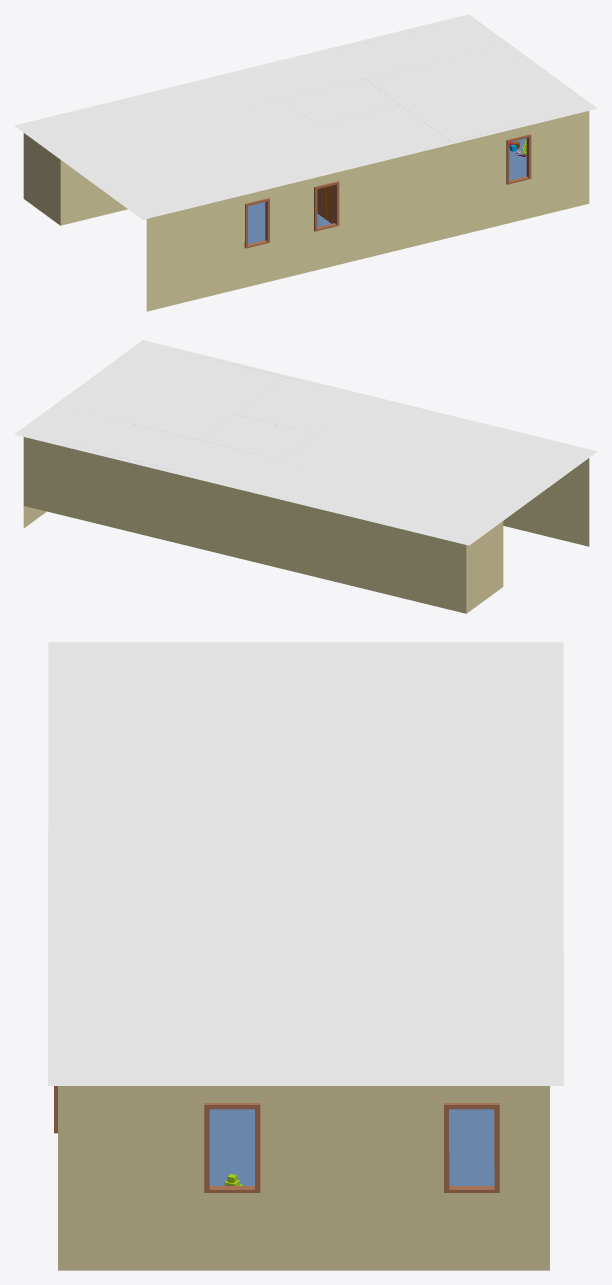
File: Body&Mind_location_v4.fbx
3 views of the same model, one above another, from view 1: azimuth 30°, elevation 25°; view 2: azimuth 150°, elevation 25°; view 3: azimuth 270°, elevation 25° (orthographic). The views are drawn at different scales.
Parts seen in each view (by area): view 1: Ceil, Room01, WindowFrame1.001; view 2: Ceil, Room01; view 3: Ceil, Room01, WindowFrame1.001.
Part boxes in pixels (x1,y1,x2,y2): Ceil: (14,14,597,219); Room01: (23,111,589,311); WindowFrame1.001: (244,134,531,248); Ceil: (14,340,597,545); Room01: (23,414,589,613); Ceil: (48,642,563,1085); Room01: (58,1086,549,1270); WindowFrame1.001: (54,1086,499,1192).
Size of the model in its own units: 4151 by 831 by 2038.
Materials: 1 (1 with a texture image).
